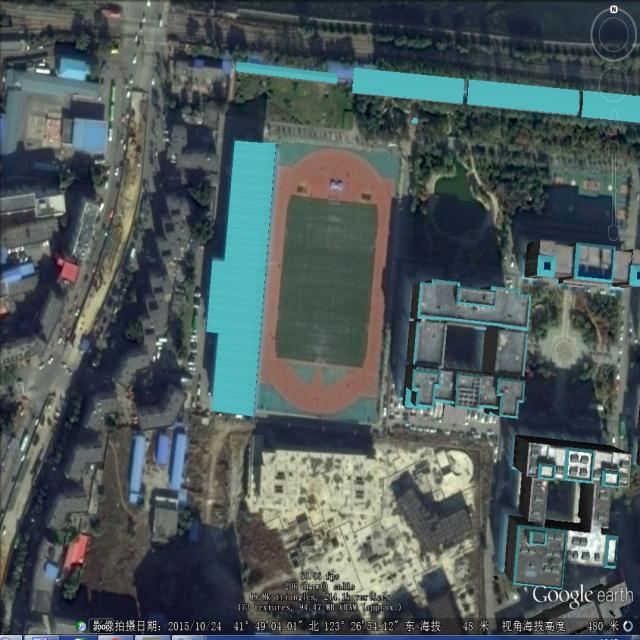playground: (256, 145, 399, 417)
